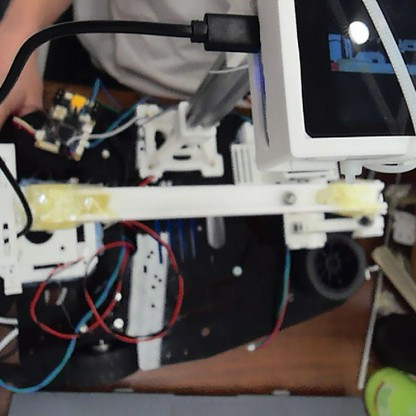ironball: (279, 189, 297, 205)
